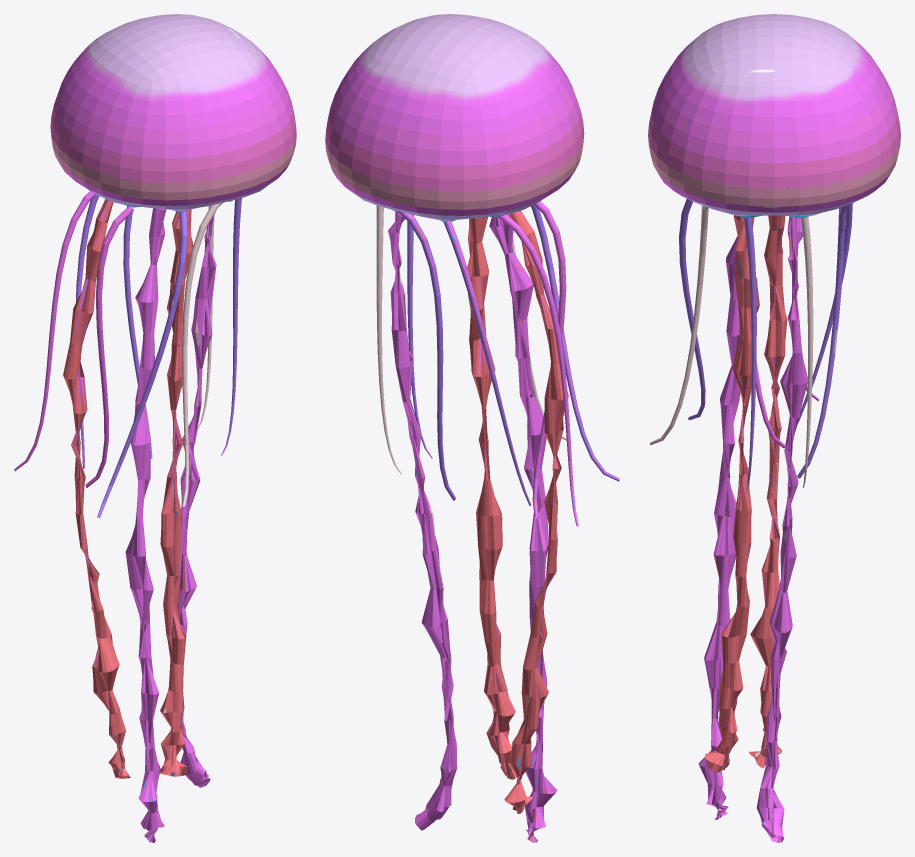
File: jellyfiishPink.glb
The picture shows the model from 3 angles, left to right: view 1: azimuth 30°, elevation 25°; view 2: azimuth 150°, elevation 25°; view 3: azimuth 270°, elevation 25°; orthographic projection. The views are drawn at different scales.
Visible parts, largest first — view 1: BezierCurve.003; view 2: BezierCurve.003; view 3: BezierCurve.003.
Boxes of the visible parts, x1,y1,x2,y2 form: BezierCurve.003: (14, 14, 296, 842); BezierCurve.003: (325, 14, 619, 842); BezierCurve.003: (648, 14, 900, 842).
Bounding box in the file's own units: 3.01 × 9.22 × 2.59.
Materials: 1 (1 with a texture image).
